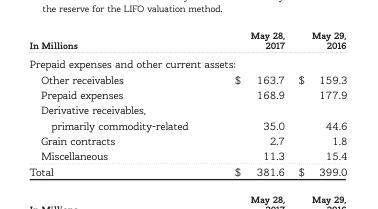table: (28, 28, 346, 177)
table column: (28, 28, 210, 177), (210, 28, 290, 177), (290, 28, 346, 177)
table column header: (28, 28, 346, 54)
table projected row header: (28, 54, 346, 71)
table row: (28, 102, 346, 132), (28, 28, 346, 54), (28, 54, 346, 71), (28, 86, 346, 102), (28, 132, 346, 148), (28, 71, 346, 86), (28, 148, 346, 163), (28, 163, 346, 177)
